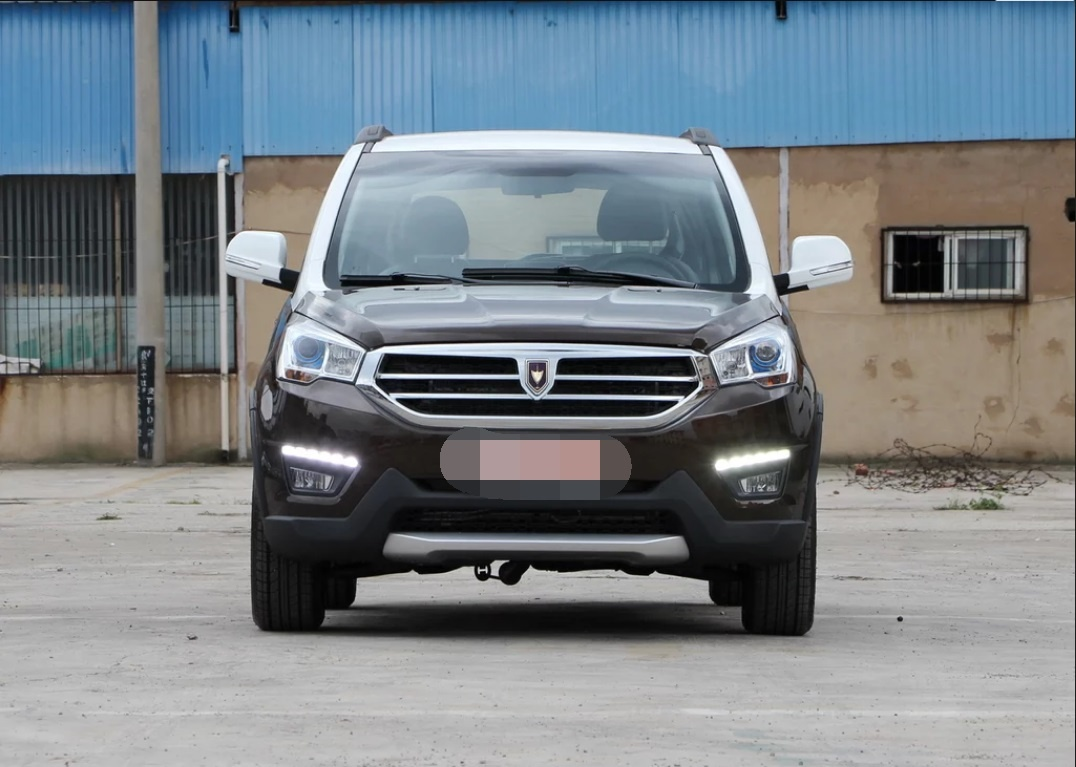SUV: (183, 113, 877, 654)
